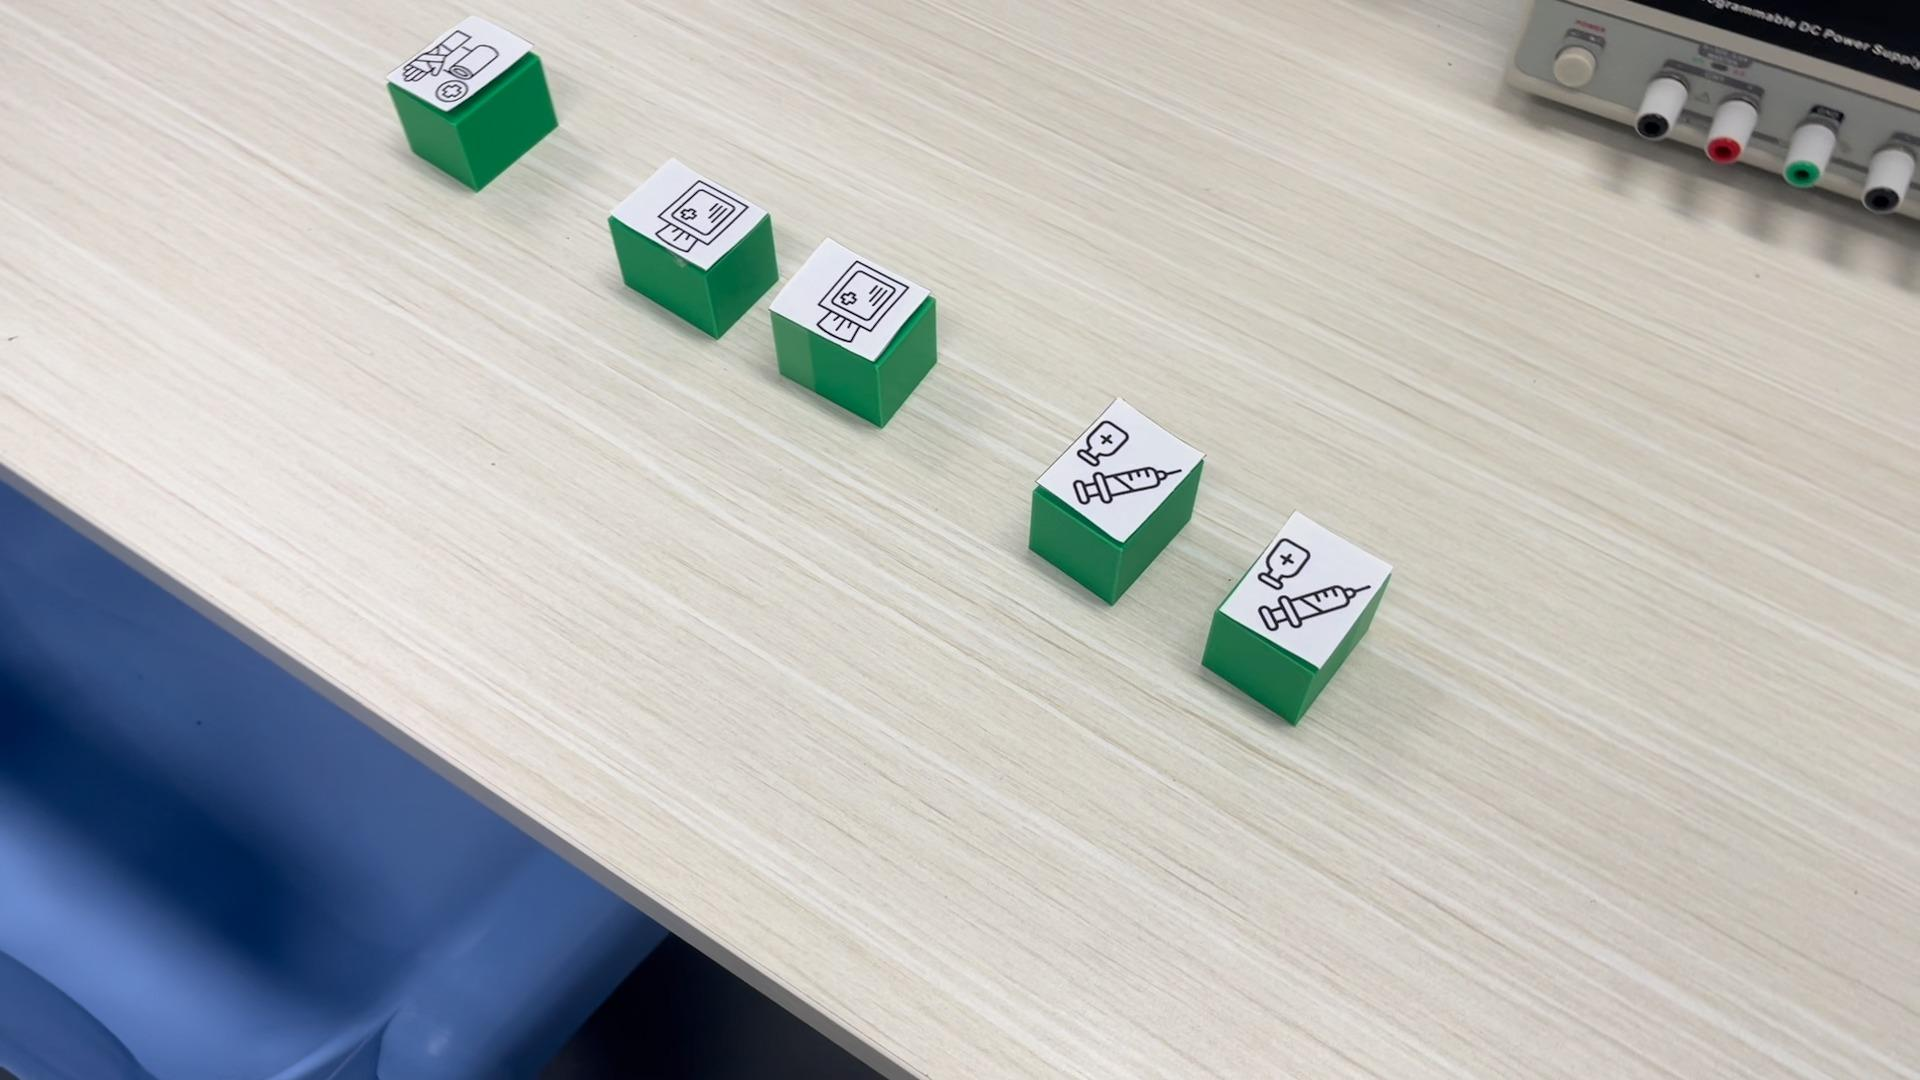Bandages: (381, 12, 558, 190)
Gauze: (771, 237, 938, 427), (607, 156, 775, 339)
antiseptic cream: (1200, 510, 1396, 724), (1026, 396, 1207, 605)
